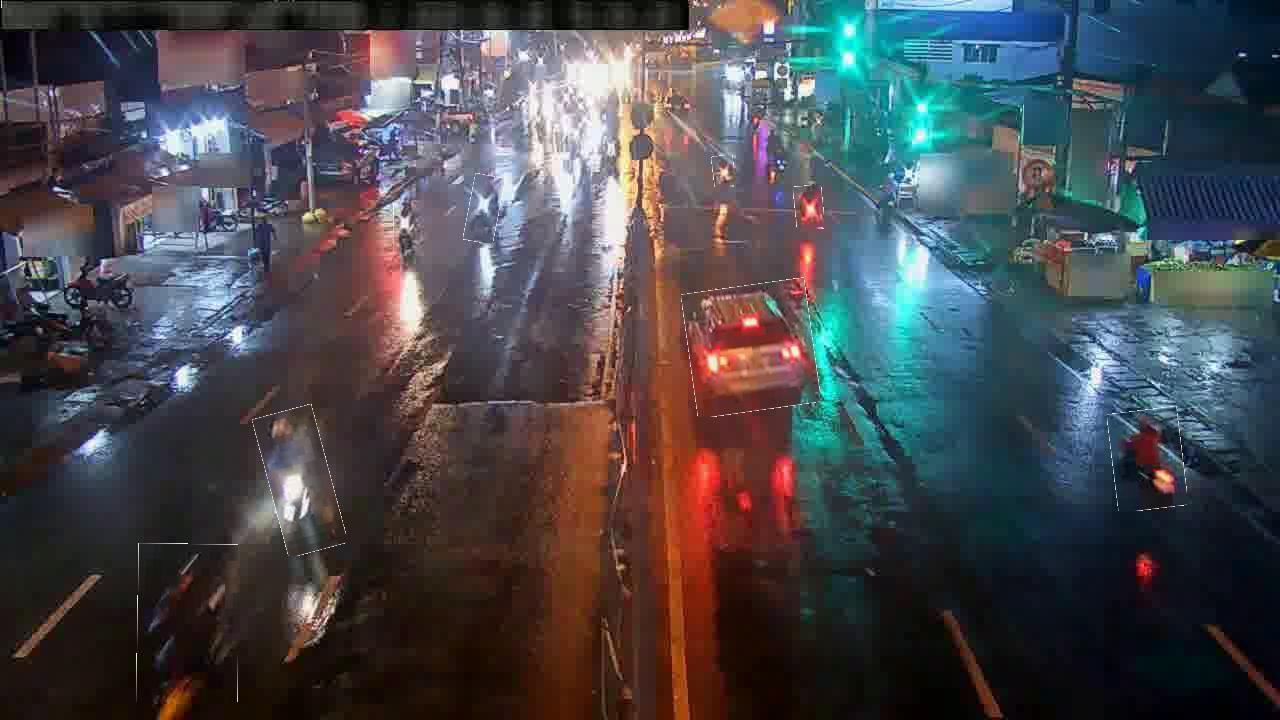container: (685, 281, 817, 414)
motorbike: (137, 544, 239, 703), (261, 407, 339, 555), (1110, 408, 1186, 511), (466, 174, 502, 243), (394, 201, 420, 259), (794, 186, 824, 230), (712, 156, 735, 188)
